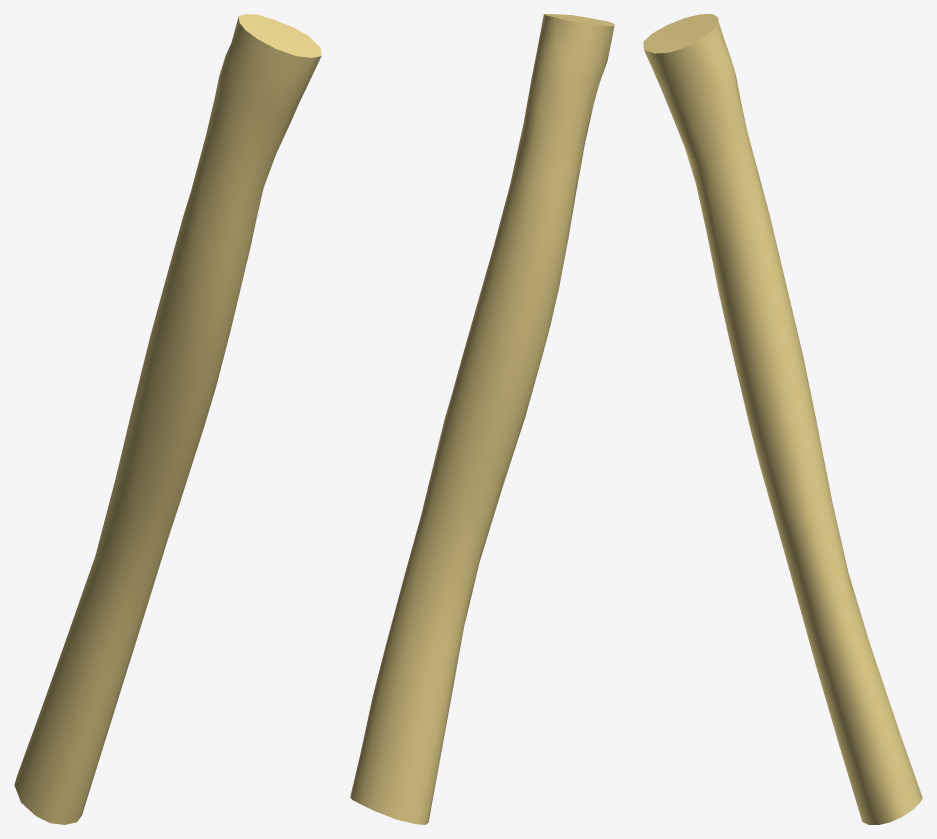
The model's file is fma73636_mm2719m.glb.
3 renders of one model, left to right at view 1: azimuth 90°, elevation 25°; view 2: azimuth 150°, elevation 25°; view 3: azimuth 270°, elevation 25°, orthographic. The views are drawn at different scales.
Parts seen in each view (by area): view 1: FMA73636_MM2719M; view 2: FMA73636_MM2719M; view 3: FMA73636_MM2719M.
Part boxes in pixels (x1,y1,x2,y2): FMA73636_MM2719M: (14,14,321,824); FMA73636_MM2719M: (350,14,614,824); FMA73636_MM2719M: (643,14,922,824).
Bounding box in the file's own units: 0.00329 × 0.016 × 0.00534.
